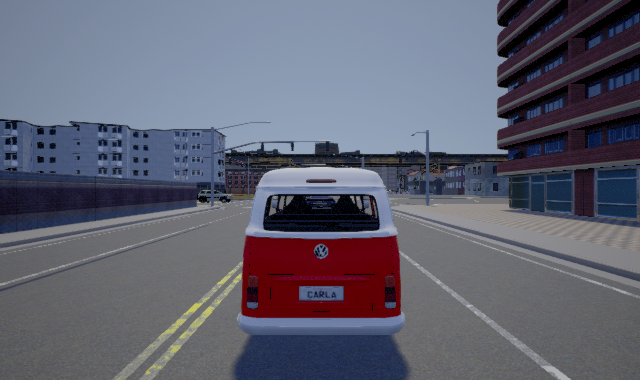vehicle: (237, 167, 405, 335), (196, 187, 234, 204)
